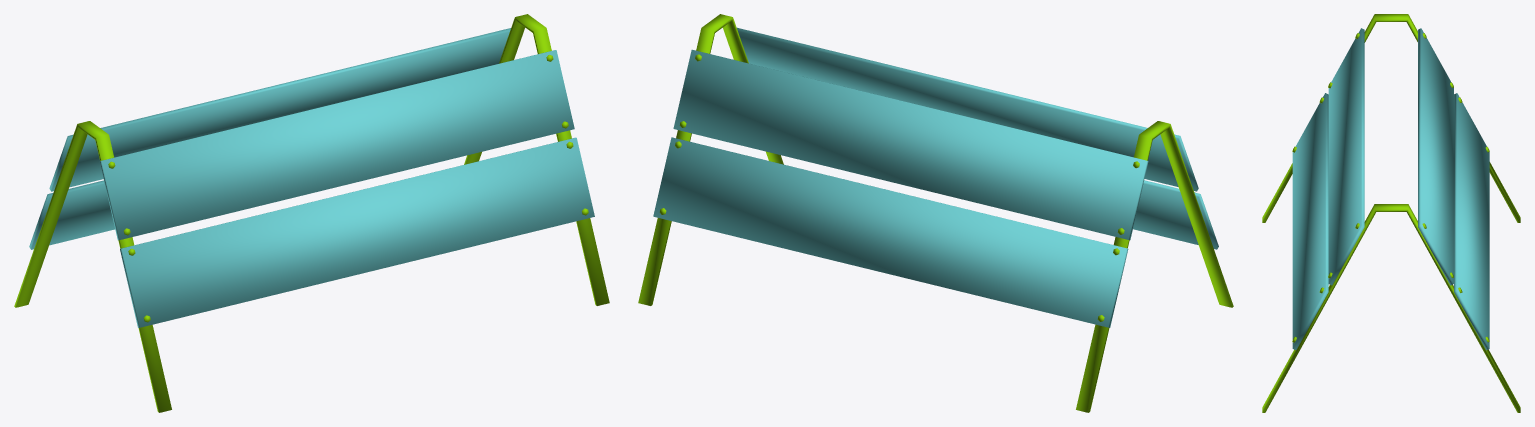
The model's file is SPP_MOD_Quarantine_barricade.fbx.
The picture shows the model from 3 angles, left to right: view 1: azimuth 30°, elevation 25°; view 2: azimuth 150°, elevation 25°; view 3: azimuth 270°, elevation 25°; orthographic projection. The views are drawn at different scales.
Visible parts, largest first — view 1: SPP_MOD_Quarantine_barricade; view 2: SPP_MOD_Quarantine_barricade; view 3: SPP_MOD_Quarantine_barricade.
Boxes of the visible parts, x1,y1,x2,y2 form: SPP_MOD_Quarantine_barricade: [14, 14, 609, 412]; SPP_MOD_Quarantine_barricade: [638, 14, 1233, 412]; SPP_MOD_Quarantine_barricade: [1262, 14, 1520, 412].
Size of the model in its own units: 1.81 by 0.87 by 1.
